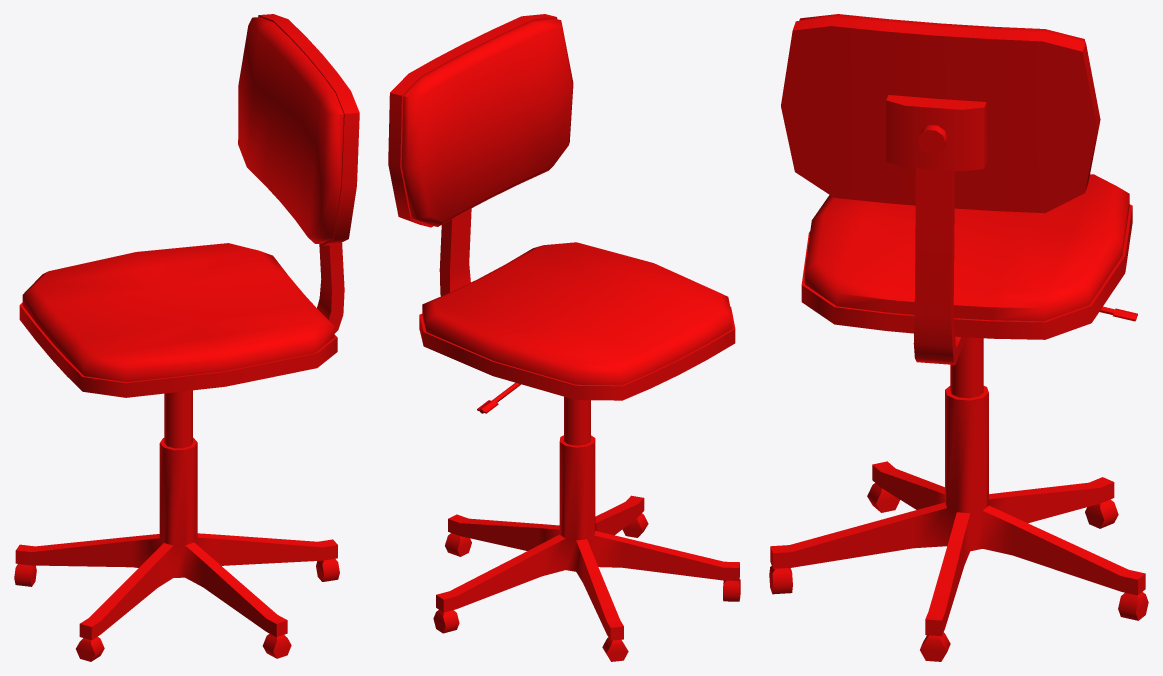
The model's file is chair_v7.glb.
3 views of the same model, side by side, from view 1: azimuth 30°, elevation 25°; view 2: azimuth 150°, elevation 25°; view 3: azimuth 270°, elevation 25° (orthographic). The views are drawn at different scales.
Parts seen in each view (by area): view 1: Chair; view 2: Chair; view 3: Chair.
Part boxes in pixels (left/top/right/bottom): Chair: left=14, top=14, right=359, bottom=661; Chair: left=388, top=14, right=740, bottom=661; Chair: left=769, top=14, right=1148, bottom=661.
Bounding box in the file's own units: 1.21 × 2.12 × 1.17.
